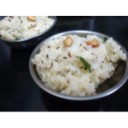venpongal: (39, 40, 112, 91), (1, 17, 44, 35)
